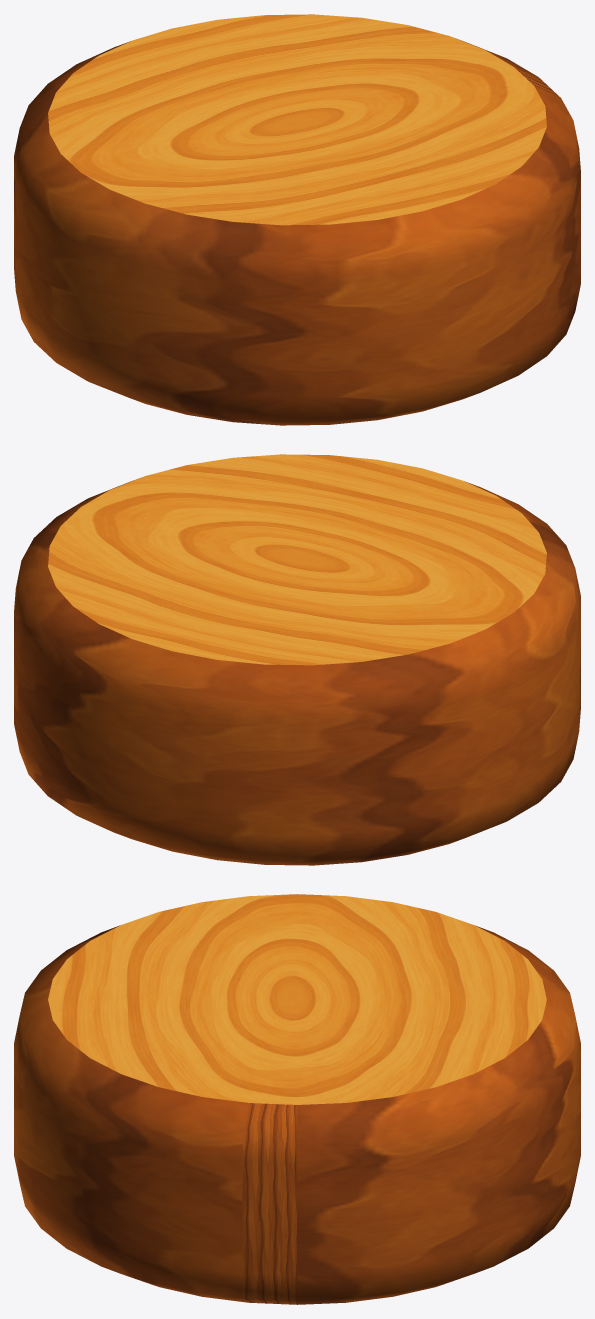
File: wood_segment-CGjoeKSl.glb
3 renders of one model, top to bottom at view 1: azimuth 30°, elevation 25°; view 2: azimuth 150°, elevation 25°; view 3: azimuth 270°, elevation 25°, orthographic.
Parts seen in each view (by area): view 1: FLC_wood_segment; view 2: FLC_wood_segment; view 3: FLC_wood_segment.
Part boxes in pixels (left/top/right/bottom): FLC_wood_segment: left=14, top=14, right=580, bottom=425; FLC_wood_segment: left=14, top=454, right=580, bottom=865; FLC_wood_segment: left=14, top=894, right=580, bottom=1304.
Size of the model in its own units: 0.72 by 0.28 by 0.72.
1 material, 1 textured.
